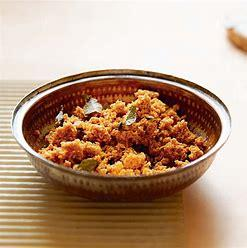Pol Sambol: (48, 87, 201, 178)
